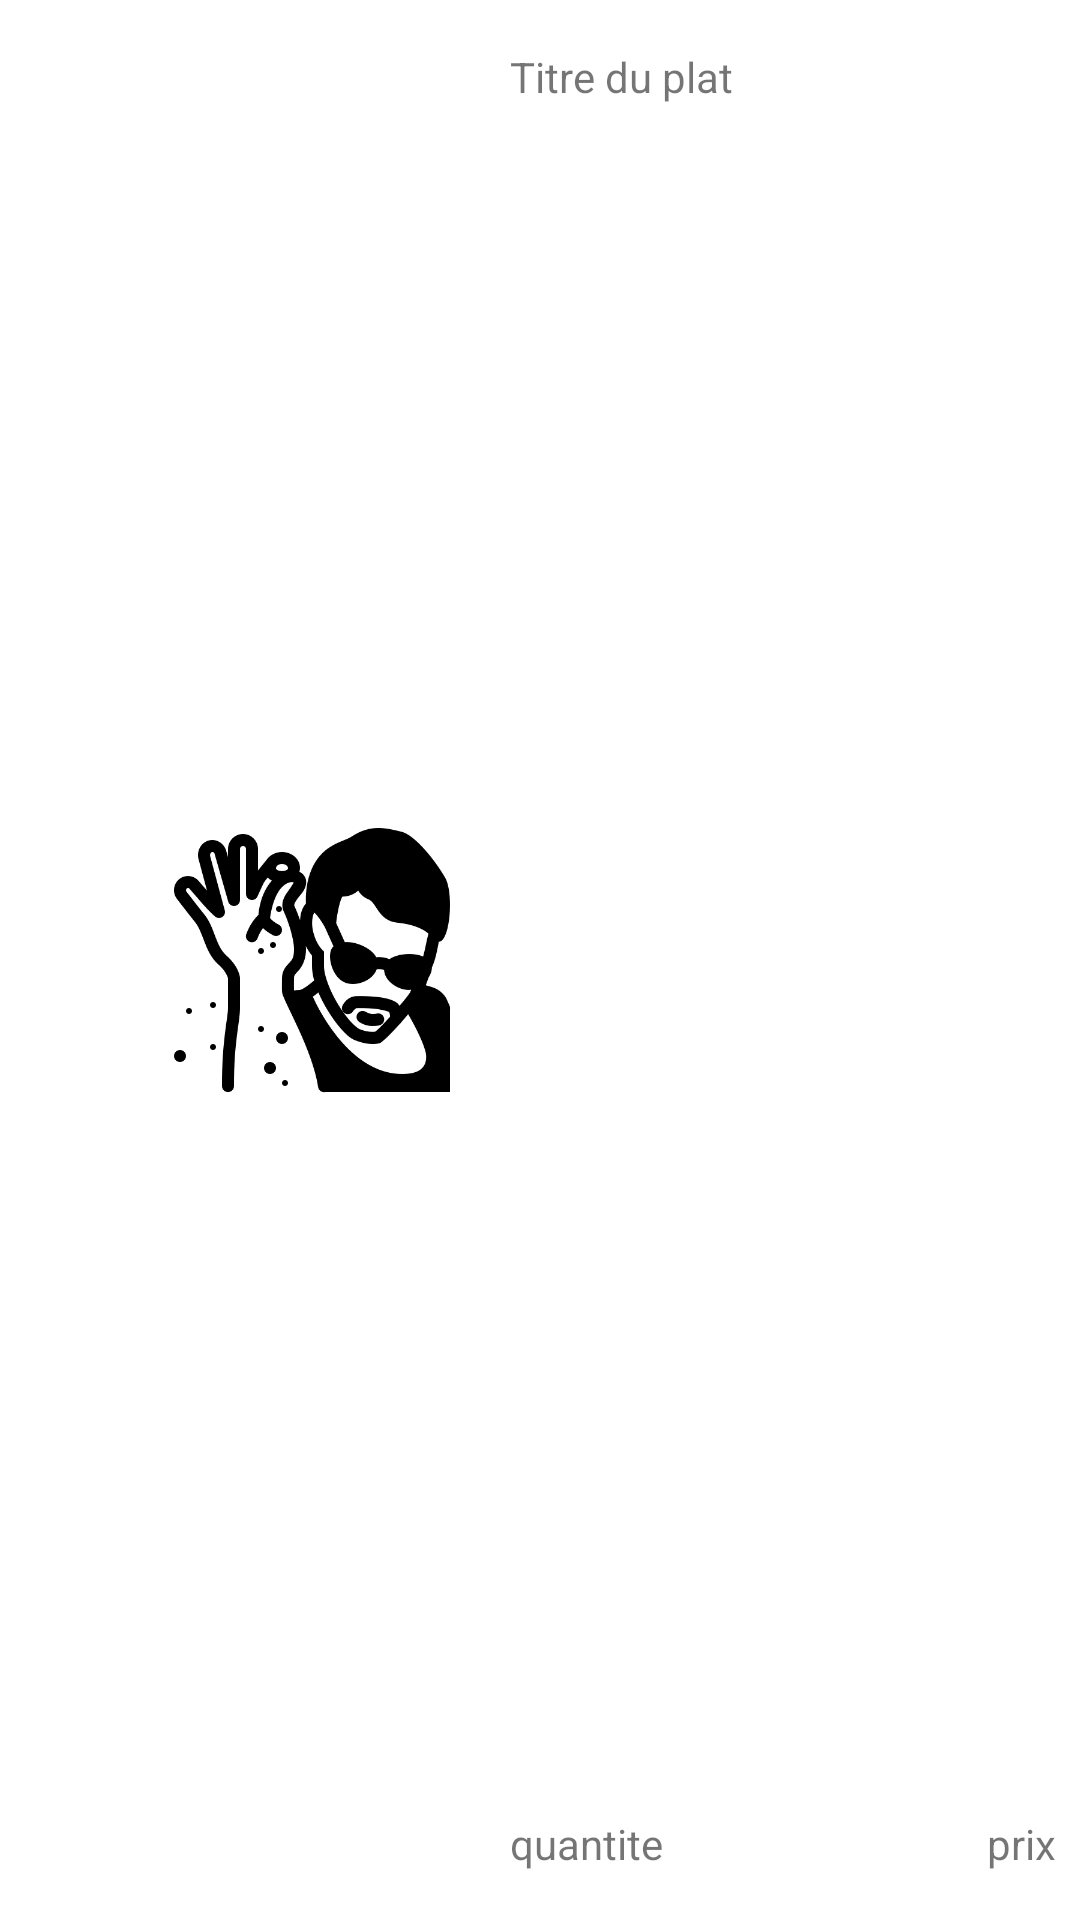

Named icons in this screenshot (1080*1920) and their bounding boxes, Rect(x1, y1, x2, y2):
salty: Rect(174, 828, 450, 1093)
